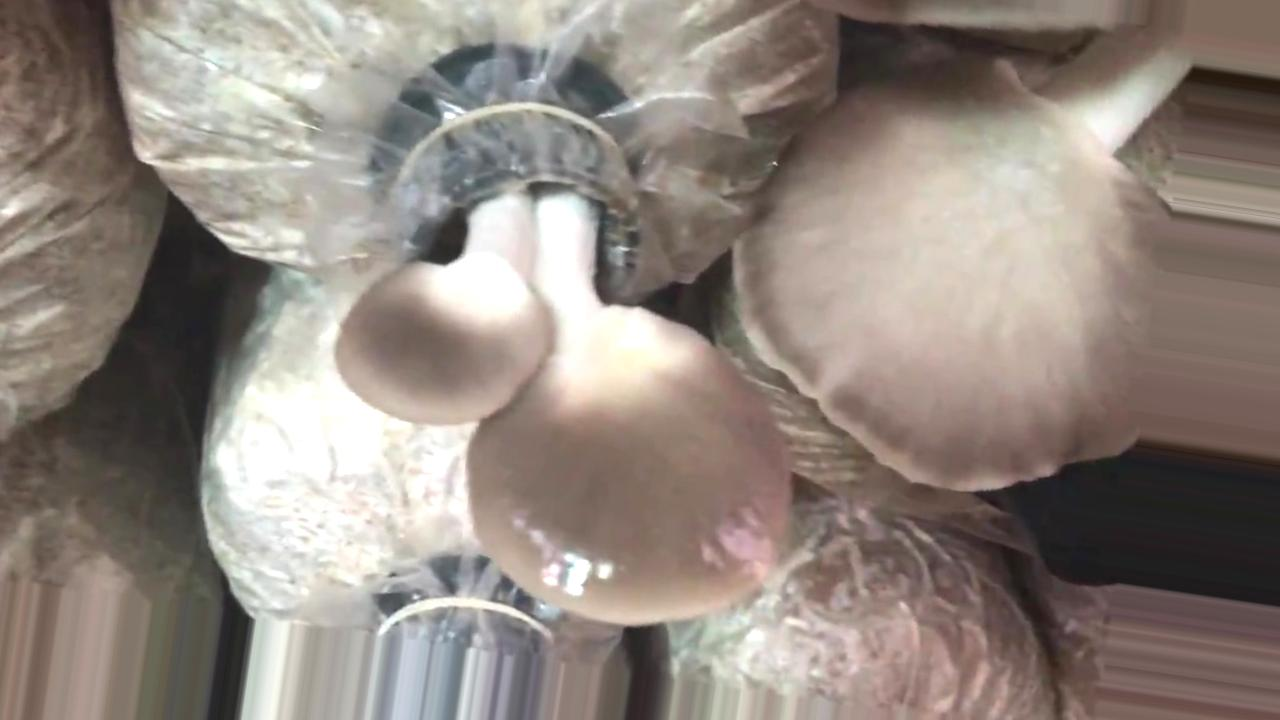nam: (730, 1, 1276, 496), (331, 77, 796, 631)
